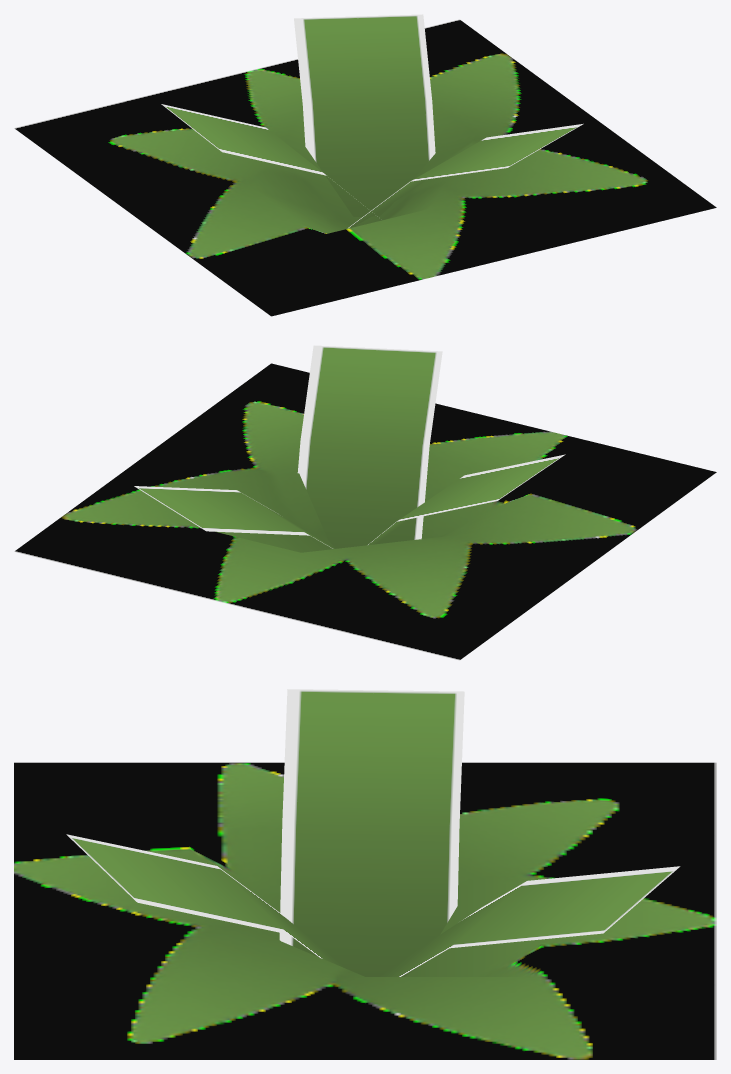
The model's file is Plant_12.glb.
3 renders of one model, top to bottom at view 1: azimuth 30°, elevation 25°; view 2: azimuth 150°, elevation 25°; view 3: azimuth 270°, elevation 25°, orthographic. The views are drawn at different scales.
Parts seen in each view (by area): view 1: Plant_12_LOD0; view 2: Plant_12_LOD0; view 3: Plant_12_LOD0.
Part boxes in pixels (left/top/right/bottom): Plant_12_LOD0: left=14, top=14, right=716, bottom=316; Plant_12_LOD0: left=14, top=345, right=716, bottom=660; Plant_12_LOD0: left=14, top=689, right=716, bottom=1059.
Size of what is drawn, in the model's own units: 0.1822 by 0.0541 by 0.1822.
Materials: 1 (1 with a texture image).
